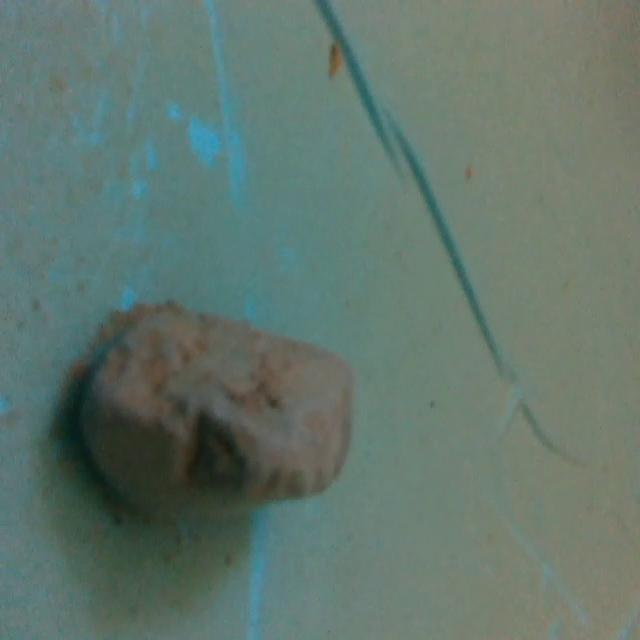rock: (62, 289, 363, 533)
